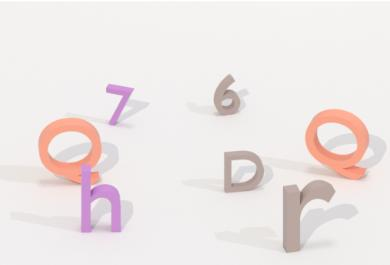6: (208, 71, 245, 119)
7: (100, 80, 136, 131)
D: (218, 145, 268, 198)
Q: (301, 104, 372, 184), (33, 113, 104, 187)
h: (77, 161, 125, 238)
r: (277, 176, 340, 257)
